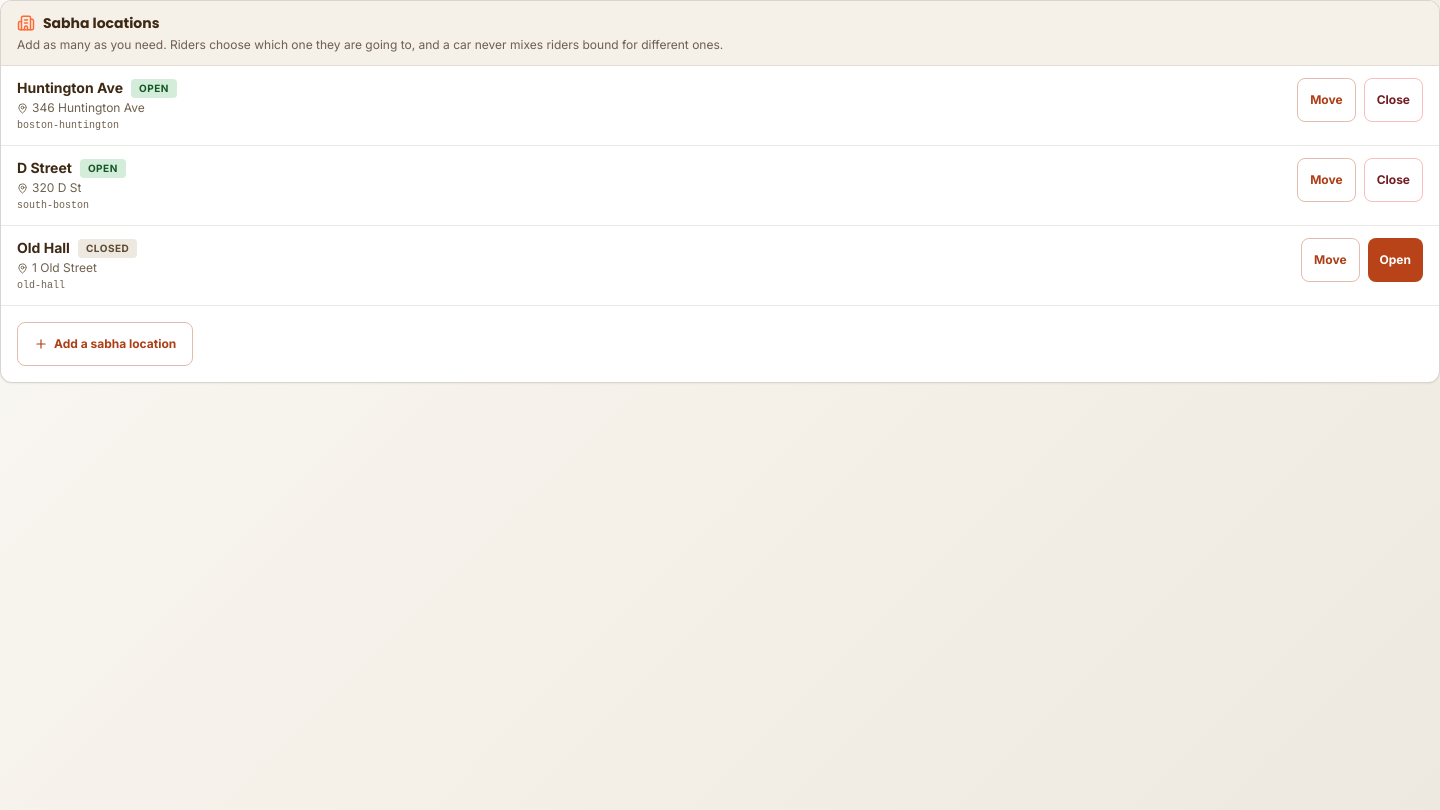
Test: HallManagement — moving a hall › names the hall on its address label
The image size is (1440, 810).
Click the button "Move" in the row of "320 D St" at coordinates (1326, 180), box [1297,158,1356,202]
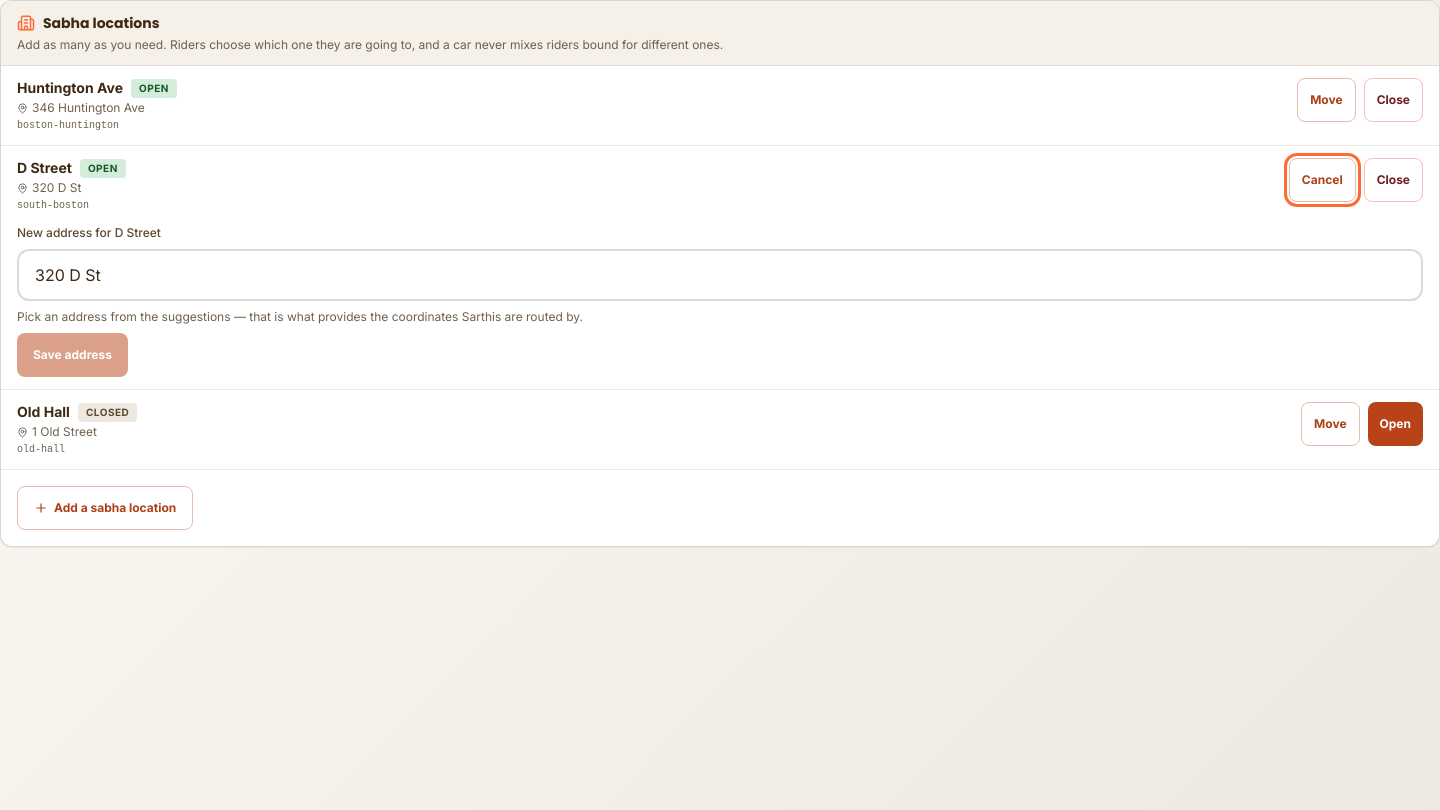
Expected: the field labelled "New address for D Street" is shown, [17,249,1423,301]
